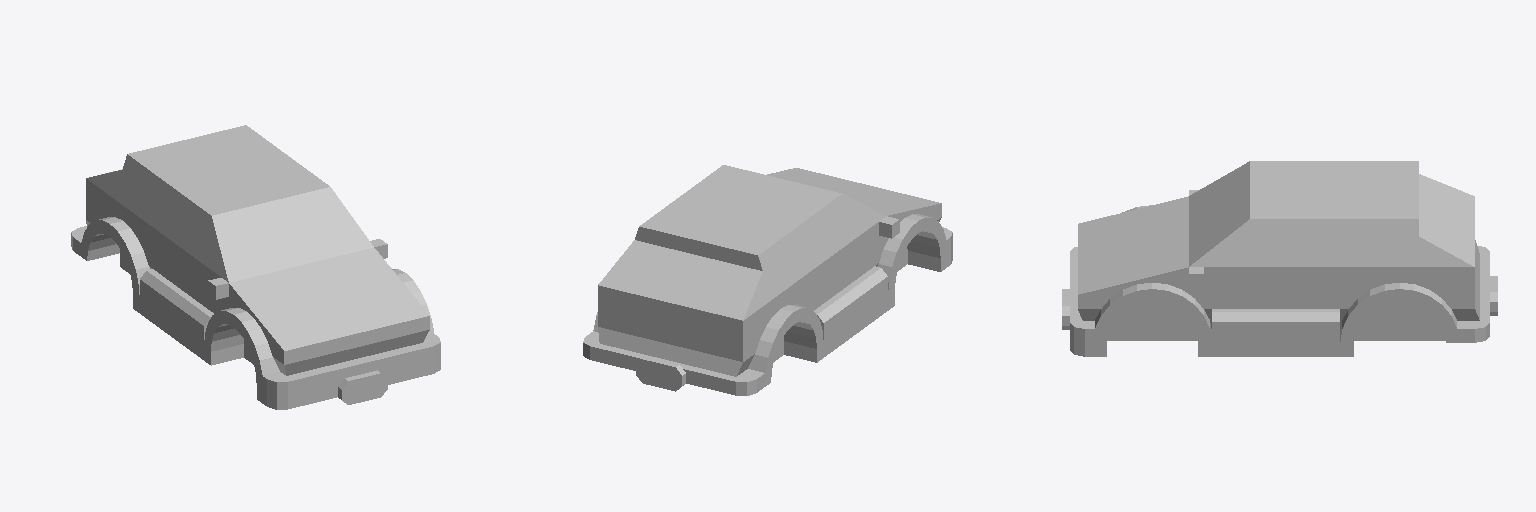
Rendered from hatchback_sport_sin_llantas.obj.
The picture shows the model from 3 angles: view 1: azimuth 30°, elevation 25°; view 2: azimuth 150°, elevation 25°; view 3: azimuth 270°, elevation 25°; orthographic projection.
Visible parts, largest first — view 1: hatchback-sports; view 2: hatchback-sports; view 3: hatchback-sports.
Boxes of the visible parts, <box> form: hatchback-sports: <box>71,125,440,409</box>; hatchback-sports: <box>583,165,952,395</box>; hatchback-sports: <box>1062,161,1497,356</box>.
Bounding box in the file's own units: 1.3 × 0.95 × 2.85.